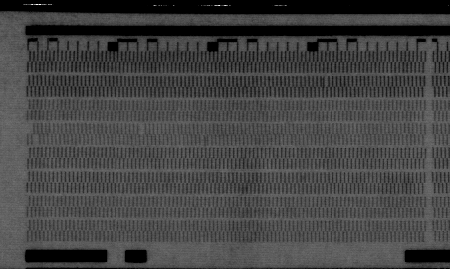Broken hole: (25, 123, 43, 146), (136, 122, 147, 135)
Oblique printing: (319, 76, 332, 89), (197, 136, 210, 148)
